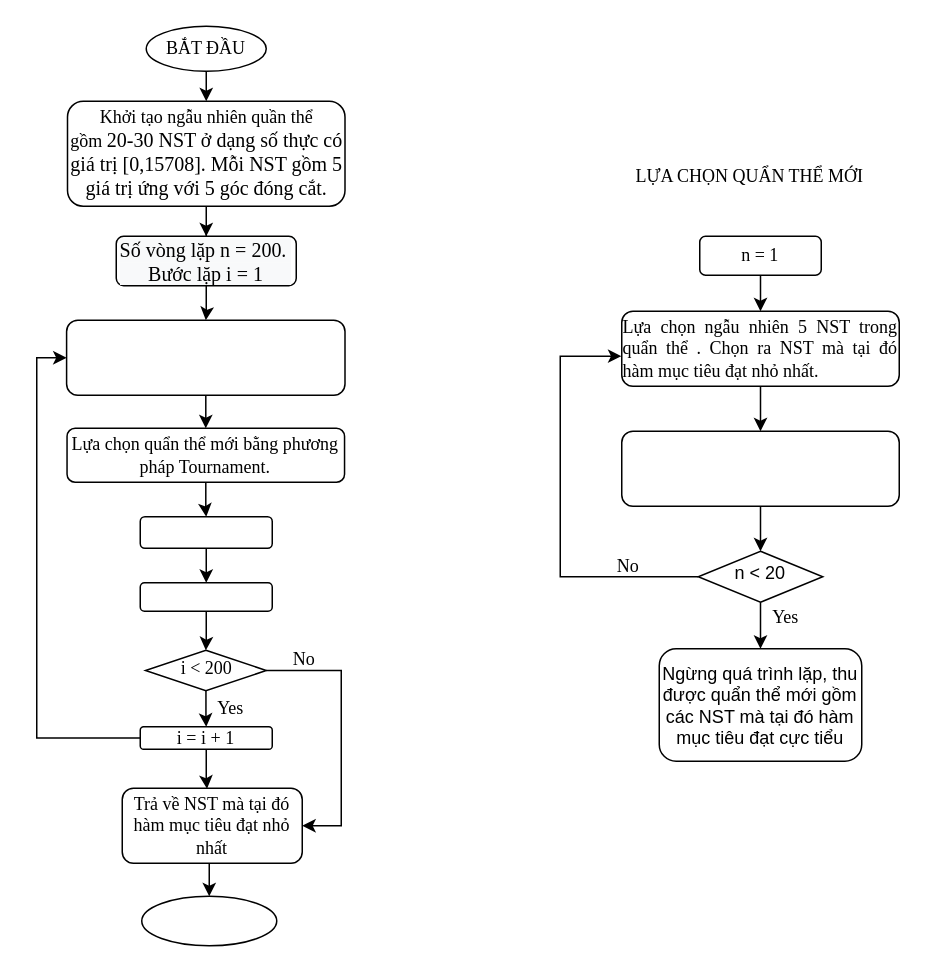
Some shapes in this 926 by 972 pixel diagram are drawn without their labels. The shapes that lost their labels are listed below. From the top down, each one's centre as x and y in pixels, then its label:
point 205,357: Tính Fitness score. Mã hóa các NST từ số thực sang mã gray.
point 759,468: NST được chọn và đưa vào vị trí n trong quần thể mới . n = n + 1
point 205,531: Hoán vị
point 205,596: Đột biến
point 208,920: KẾT THÚC
